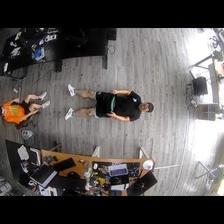fall: (64, 83, 154, 120)
normal: (1, 90, 51, 123)
